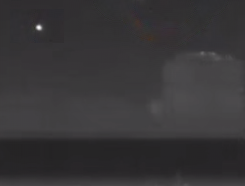Target: (37, 25, 43, 31)
